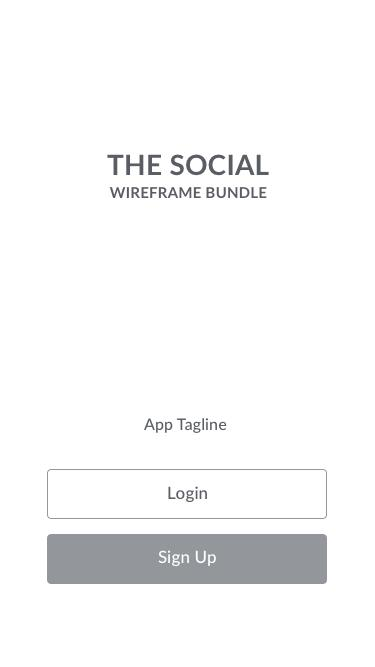Text: (107, 155, 270, 177), (109, 186, 268, 199), (144, 417, 227, 434)
TextButton: (47, 534, 328, 585), (48, 469, 328, 520)
